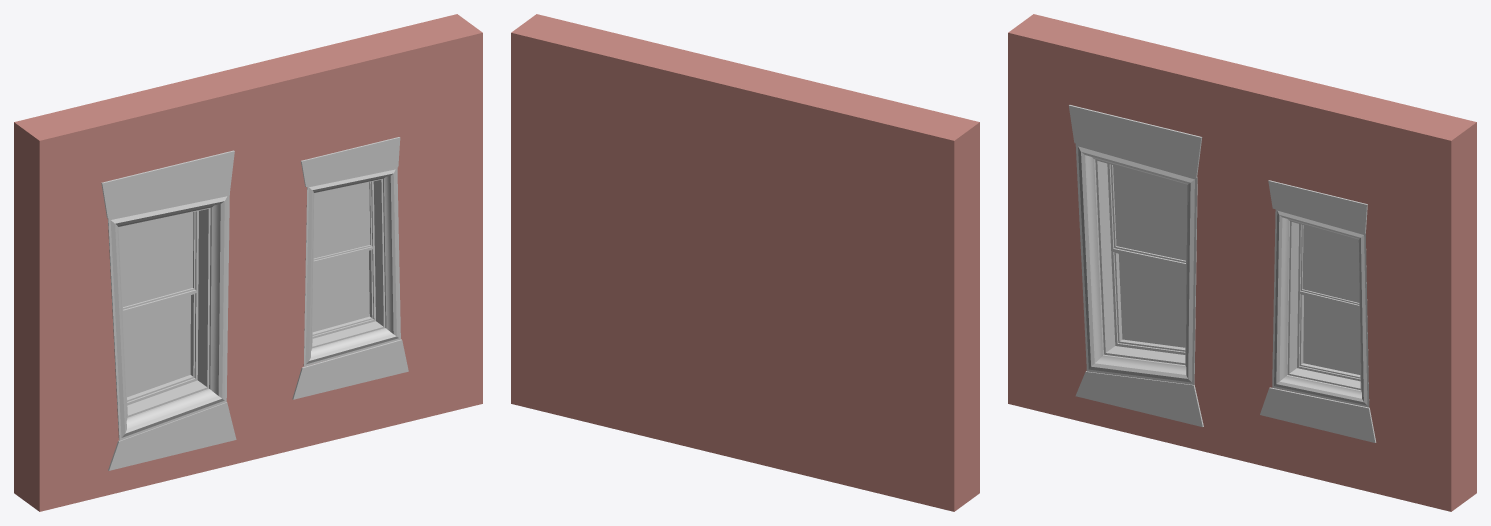
The model's file is SM_Modular_SmallWindows.fbx.
The picture shows the model from 3 angles, left to right: view 1: azimuth 30°, elevation 25°; view 2: azimuth 150°, elevation 25°; view 3: azimuth 330°, elevation 25°; orthographic projection.
Parts seen in each view (by area): view 1: Wall_5x4.009, Plane.023, Plane.022, Plane.021; view 2: Wall_5x4.009; view 3: Wall_5x4.009, Plane.023, Plane.022, Plane.021.
Part boxes in pixels (x1,y1,x2,y2): Wall_5x4.009: (14,14,482,511); Plane.023: (107,193,229,440); Plane.022: (303,167,400,366); Plane.021: (101,137,408,470); Wall_5x4.009: (511,14,979,511); Wall_5x4.009: (1008,14,1476,511); Plane.023: (1075,143,1197,384); Plane.022: (1272,209,1369,407); Plane.021: (1068,105,1376,442).
Size of the model in its own units: 500 by 400 by 52.48.
